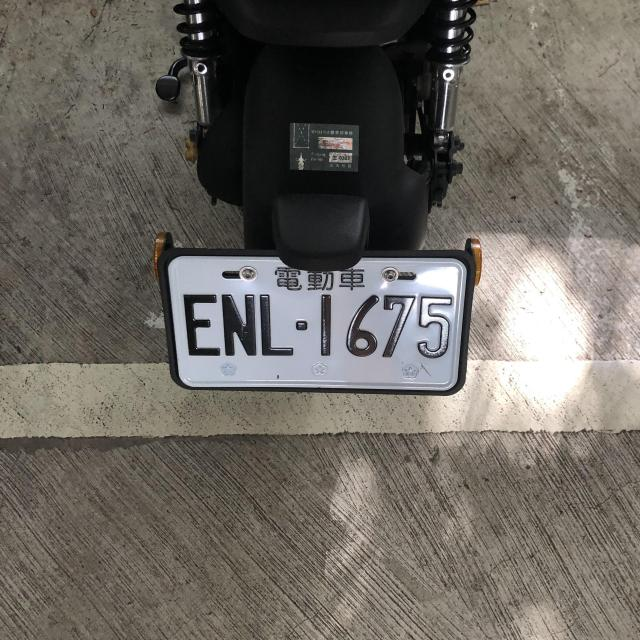W: (163, 250, 468, 393)
